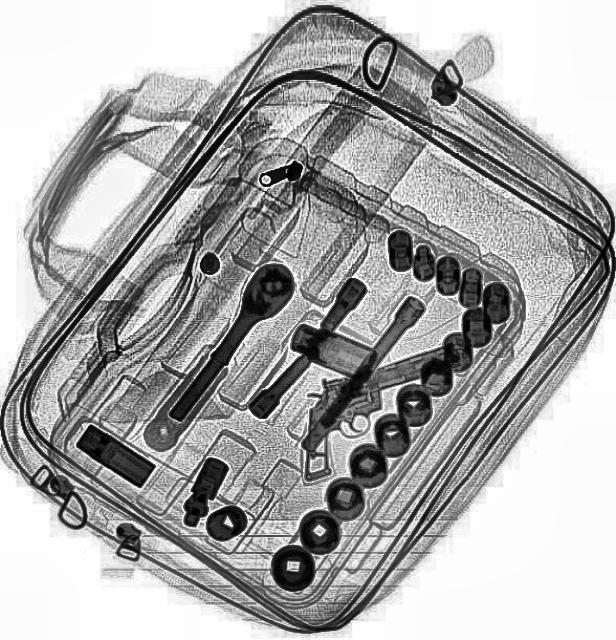Gun: (277, 341, 485, 481)
